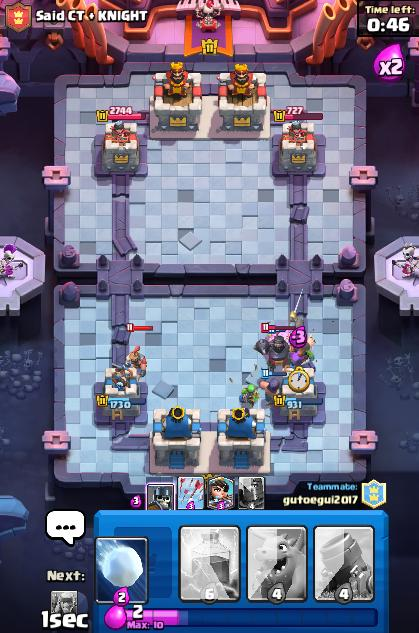EKingTower: (150, 62, 200, 132), (218, 63, 269, 130)
EMegaKnight: (254, 331, 292, 372)
ERoyalR: (126, 346, 146, 377)
EnemyPrincessTower: (102, 122, 138, 173), (279, 120, 314, 172)
OEx: (258, 378, 283, 403)
OGoblin: (299, 351, 312, 367)
OKnight: (288, 311, 314, 348)
OSpearGoblin: (241, 383, 259, 407)
OwnKingTower: (218, 408, 270, 472), (150, 406, 200, 472)
OwnPrincessTower: (266, 368, 322, 421), (95, 365, 146, 421)
